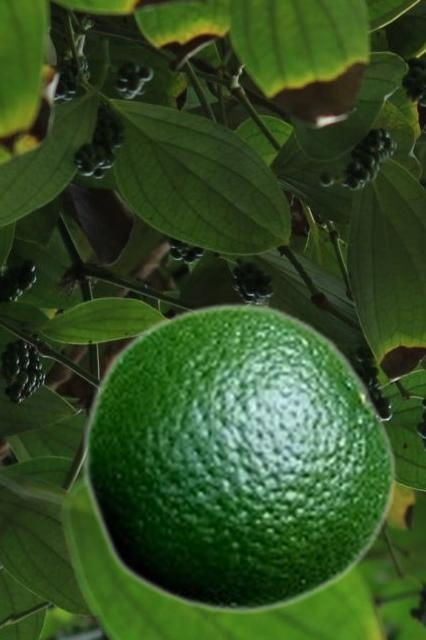calamansi: (80, 301, 397, 615)
